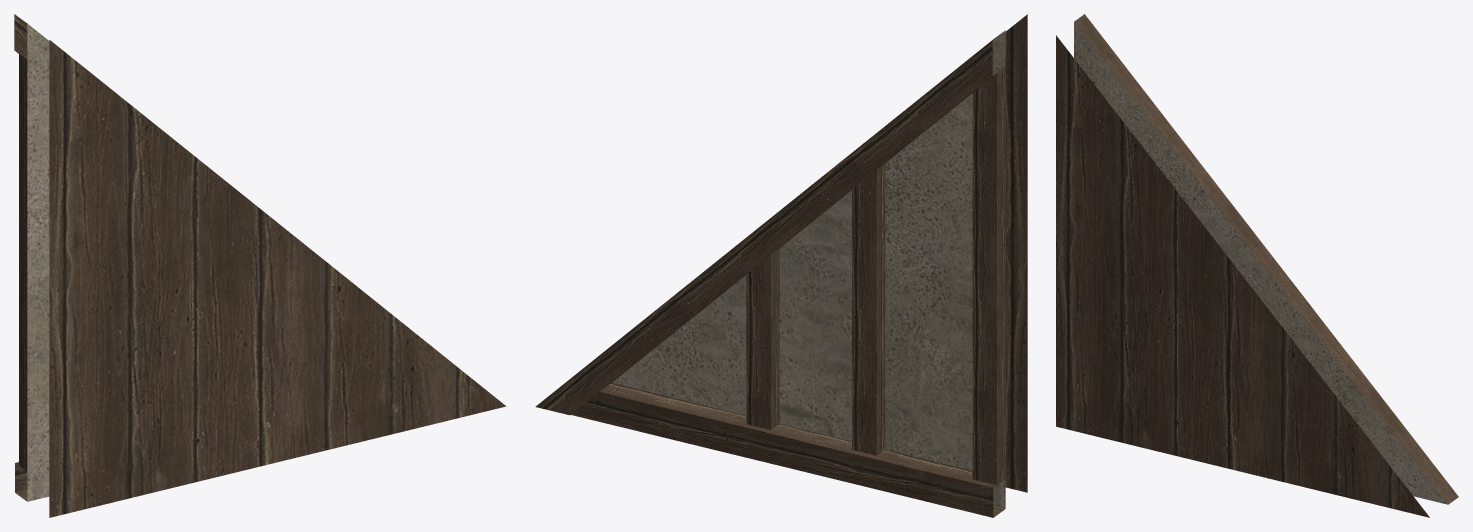
Rendered from ARC1010305.fbx.
3 views of the same model, side by side, from view 1: azimuth 30°, elevation 25°; view 2: azimuth 150°, elevation 25°; view 3: azimuth 330°, elevation 25° (orthographic). The views are drawn at different scales.
Visible parts, largest first — view 1: smARC1010305; view 2: smARC1010305; view 3: smARC1010305.
Part boxes in pixels (bbox=[...]): smARC1010305: bbox=[14, 14, 506, 517]; smARC1010305: bbox=[535, 14, 1027, 517]; smARC1010305: bbox=[1056, 14, 1458, 517].
Size of the model in its own units: 268 by 268 by 35.62.
1 material, 1 textured.
